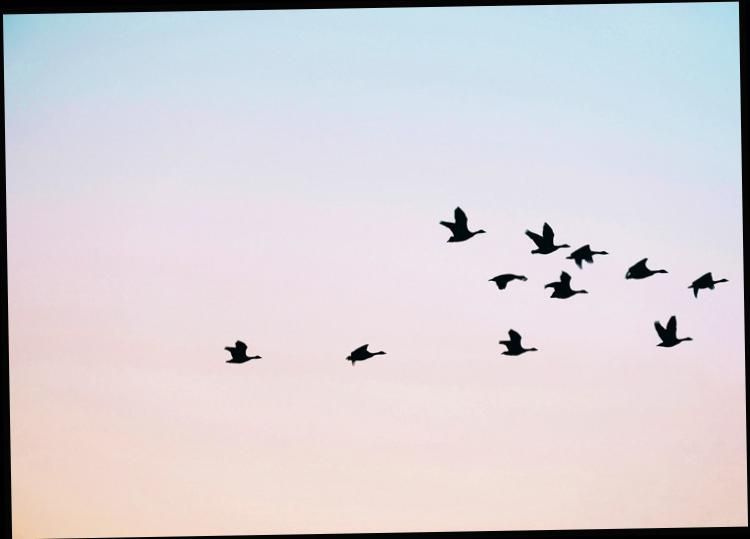bird: (208, 329, 272, 377), (437, 199, 498, 246), (642, 308, 697, 356), (485, 320, 544, 362), (513, 212, 571, 254), (335, 332, 395, 372), (616, 250, 673, 285), (538, 265, 592, 301), (678, 265, 730, 299), (564, 238, 610, 270), (481, 266, 531, 292)
